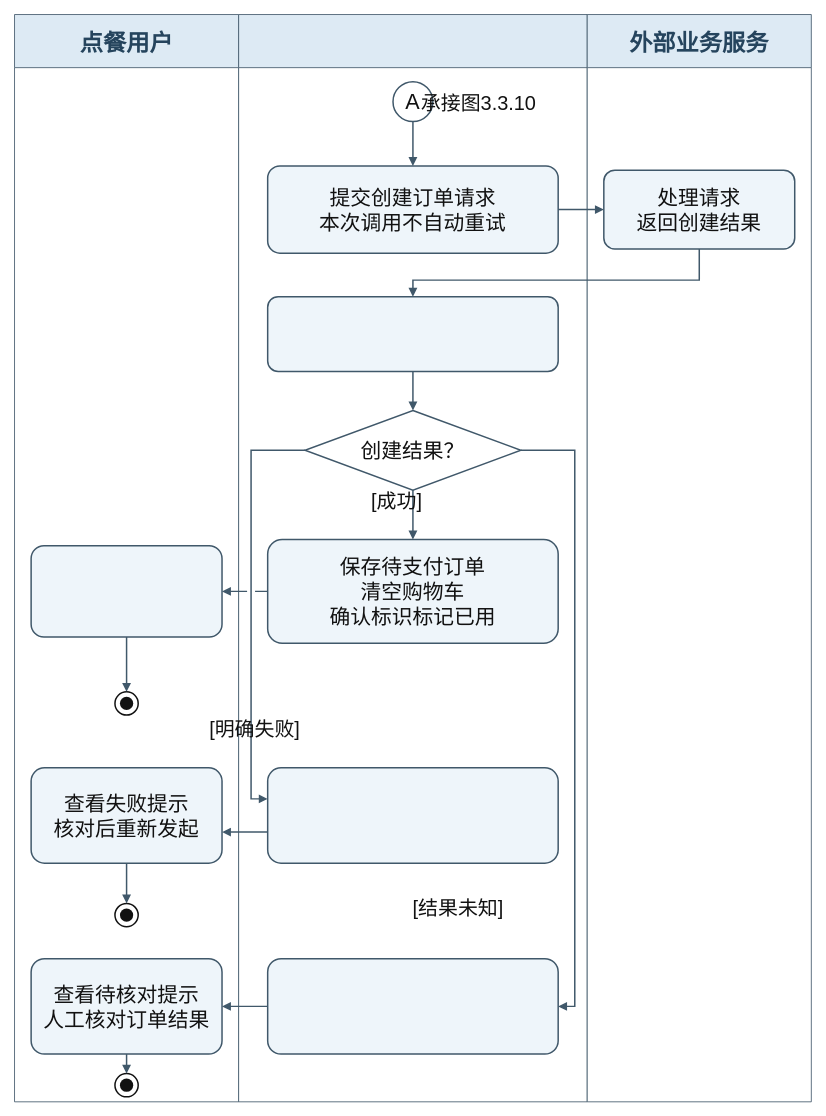
Image size: 826x1116. Some labels were removed from this diagram. Each missing label, with the box of its shape:
接收结果 或等待超时: (267, 296, 559, 372)
本系统: (238, 14, 587, 1102)
查看订单号及链接 在官方渠道支付: (30, 545, 222, 637)
标记结果待核对 保留可核对的状态 不自动重试: (267, 957, 559, 1054)
记录明确失败 保留购物车 返回失败提示: (267, 767, 559, 864)
